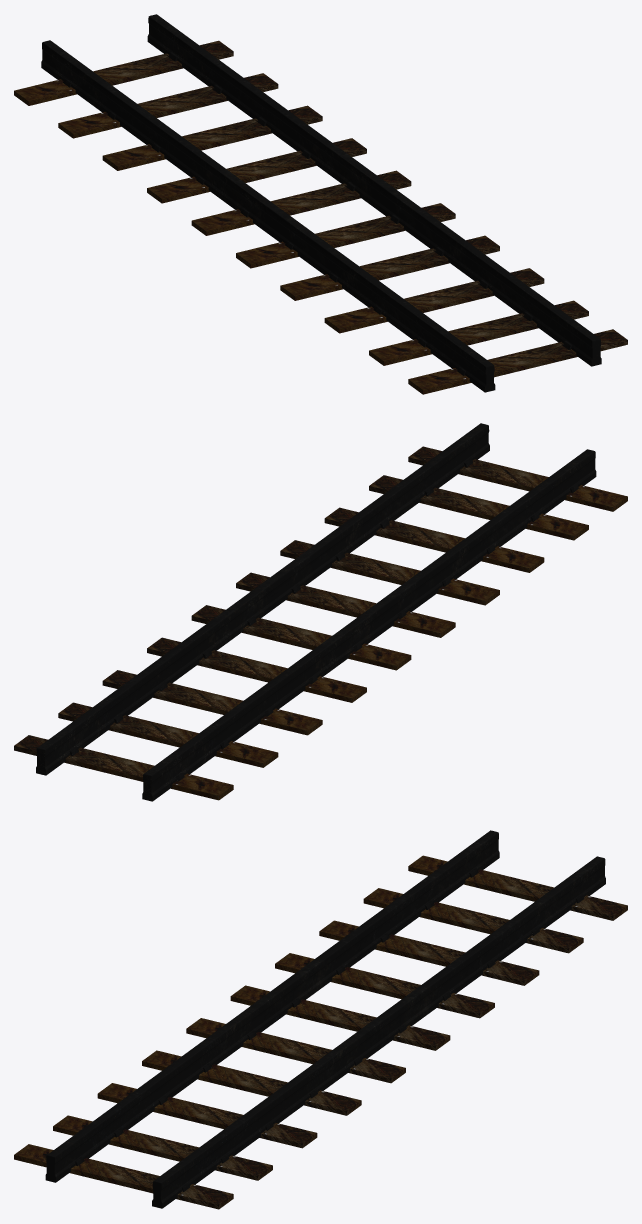
The model's file is track_straight.obj.
3 views of the same model, one above another, from view 1: azimuth 30°, elevation 25°; view 2: azimuth 150°, elevation 25°; view 3: azimuth 330°, elevation 25° (orthographic).
Visible parts, largest first — view 1: Track_01polySurface161_lambert1_0.008, Track_01polySurface161_lambert1_0.255, Track_01polySurface161_lambert1_0.258, Track_01polySurface161_lambert1_0.011, Track_01polySurface161_lambert1_0.261, Track_01polySurface161_lambert1_0.118, Track_01polySurface161_lambert1_0.040, Track_01polySurface161_lambert1_0.222, Track_01polySurface161_lambert1_0.196, Track_01polySurface161_lambert1_0.066, Track_01polySurface161_lambert1_0.170, Track_01polySurface161_lambert1_0.092 (+18 smaller); view 2: Track_01polySurface161_lambert1_0.008, Track_01polySurface161_lambert1_0.255, Track_01polySurface161_lambert1_0.011, Track_01polySurface161_lambert1_0.258, Track_01polySurface161_lambert1_0.196, Track_01polySurface161_lambert1_0.222, Track_01polySurface161_lambert1_0.092, Track_01polySurface161_lambert1_0.144, Track_01polySurface161_lambert1_0.261, Track_01polySurface161_lambert1_0.118, Track_01polySurface161_lambert1_0.040, Track_01polySurface161_lambert1_0.014 (+18 smaller); view 3: Track_01polySurface161_lambert1_0.007, Track_01polySurface161_lambert1_0.254, Track_01polySurface161_lambert1_0.258, Track_01polySurface161_lambert1_0.011, Track_01polySurface161_lambert1_0.261, Track_01polySurface161_lambert1_0.144, Track_01polySurface161_lambert1_0.066, Track_01polySurface161_lambert1_0.222, Track_01polySurface161_lambert1_0.196, Track_01polySurface161_lambert1_0.170, Track_01polySurface161_lambert1_0.092, Track_01polySurface161_lambert1_0.040 (+16 smaller).
Boxes of the visible parts, x1,y1,x2,y2 form: Track_01polySurface161_lambert1_0.008: (42,42,486,384); Track_01polySurface161_lambert1_0.255: (148,16,592,358); Track_01polySurface161_lambert1_0.258: (150,14,599,340); Track_01polySurface161_lambert1_0.011: (44,40,492,366); Track_01polySurface161_lambert1_0.261: (408,329,627,389); Track_01polySurface161_lambert1_0.118: (147,138,366,198); Track_01polySurface161_lambert1_0.040: (236,203,455,263); Track_01polySurface161_lambert1_0.222: (369,300,588,361); Track_01polySurface161_lambert1_0.196: (14,40,233,101); Track_01polySurface161_lambert1_0.066: (325,268,543,328); Track_01polySurface161_lambert1_0.170: (58,73,277,133); Track_01polySurface161_lambert1_0.092: (280,235,499,296); Track_01polySurface161_lambert1_0.008: (151,451,595,793); Track_01polySurface161_lambert1_0.255: (45,425,489,767); Track_01polySurface161_lambert1_0.011: (144,449,593,775); Track_01polySurface161_lambert1_0.258: (38,423,487,749); Track_01polySurface161_lambert1_0.196: (14,735,233,795); Track_01polySurface161_lambert1_0.222: (369,475,588,535); Track_01polySurface161_lambert1_0.092: (280,540,499,600); Track_01polySurface161_lambert1_0.144: (103,670,321,730); Track_01polySurface161_lambert1_0.261: (408,446,627,506); Track_01polySurface161_lambert1_0.118: (147,637,366,698); Track_01polySurface161_lambert1_0.040: (236,572,455,633); Track_01polySurface161_lambert1_0.014: (192,605,410,665); Track_01polySurface161_lambert1_0.007: (54,832,498,1174); Track_01polySurface161_lambert1_0.254: (161,858,605,1200); Track_01polySurface161_lambert1_0.258: (154,856,604,1182); Track_01polySurface161_lambert1_0.011: (48,830,497,1156); Track_01polySurface161_lambert1_0.261: (14,1144,233,1204); Track_01polySurface161_lambert1_0.144: (320,920,538,981); Track_01polySurface161_lambert1_0.066: (98,1083,316,1143); Track_01polySurface161_lambert1_0.222: (53,1115,272,1175); Track_01polySurface161_lambert1_0.196: (408,855,627,915); Track_01polySurface161_lambert1_0.170: (364,888,582,948); Track_01polySurface161_lambert1_0.092: (142,1050,361,1110); Track_01polySurface161_lambert1_0.040: (186,1018,405,1078).
Bounding box in the file's own units: 40 × 5.12 × 150.
1 material, 1 textured.
